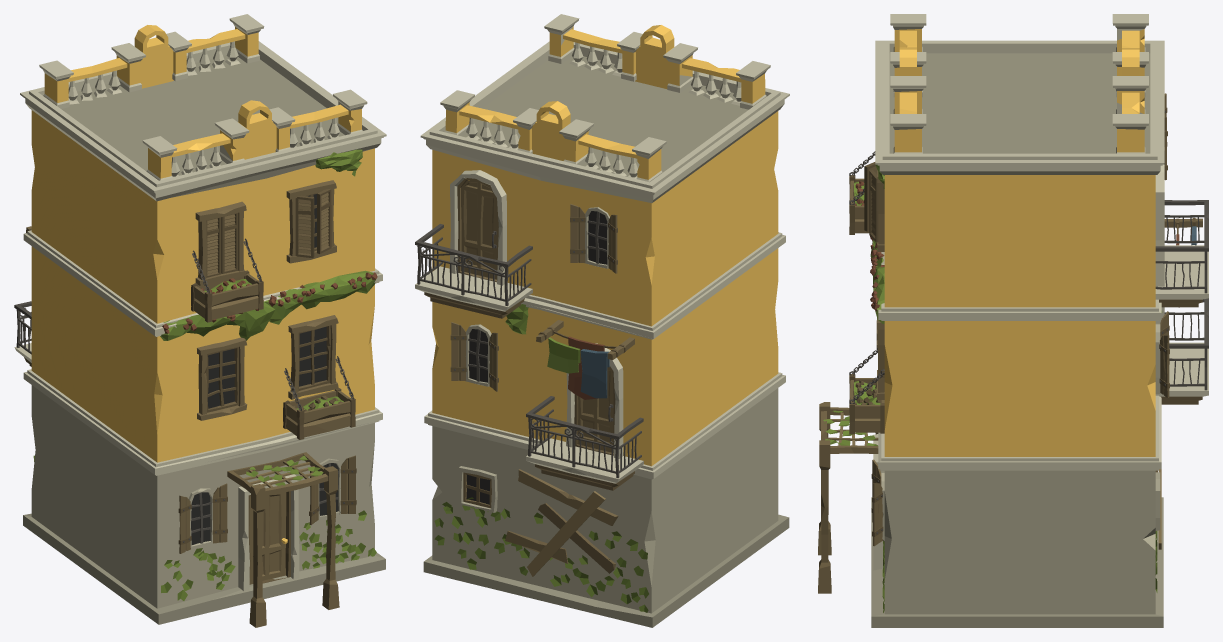
The model's file is Building_14.fbx.
3 renders of one model, left to right at view 1: azimuth 30°, elevation 25°; view 2: azimuth 150°, elevation 25°; view 3: azimuth 270°, elevation 25°, orthographic. The views are drawn at different scales.
Parts seen in each view (by area): view 1: Building_14; view 2: Building_14; view 3: Building_14.
Boxes of the visible parts, x1,y1,x2,y2 form: Building_14: (14,14,386,627); Building_14: (415,14,789,627); Building_14: (818,14,1208,627).
Bounding box in the file's own units: 587 × 1167 × 793.
